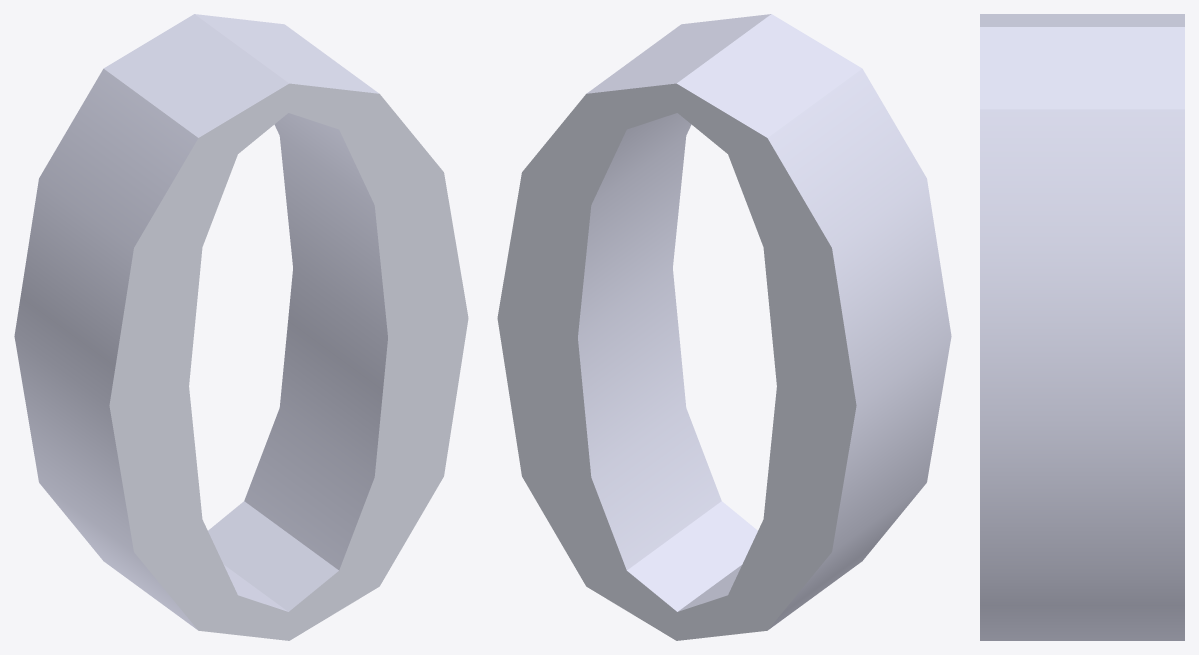
Rendered from dbff9d71-5040-4eb6-9885-025e9f4f88f6.glb.
The picture shows the model from 3 angles, left to right: view 1: azimuth 30°, elevation 25°; view 2: azimuth 150°, elevation 25°; view 3: azimuth 270°, elevation 25°; orthographic projection. The views are drawn at different scales.
Visible parts, largest first — view 1: 0_Soul_Grey; view 2: 0_Soul_Grey; view 3: 0_Soul_Grey.
Part boxes in pixels (<box>): 0_Soul_Grey: <box>14,14,468,640</box>; 0_Soul_Grey: <box>497,14,951,640</box>; 0_Soul_Grey: <box>980,14,1184,640</box>.
Size of what is drawn, in the model's own units: 0.0982 by 0.1457 by 0.045.
Materials: 2 (2 with a texture image).
